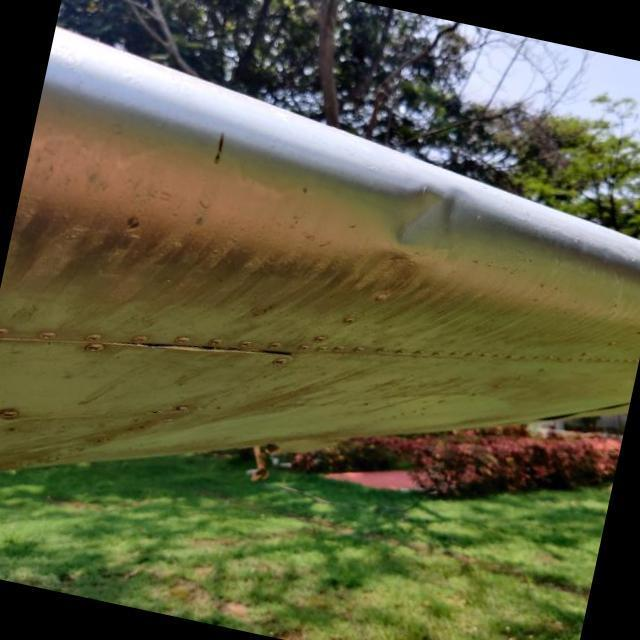Dent: (356, 156, 489, 276)
